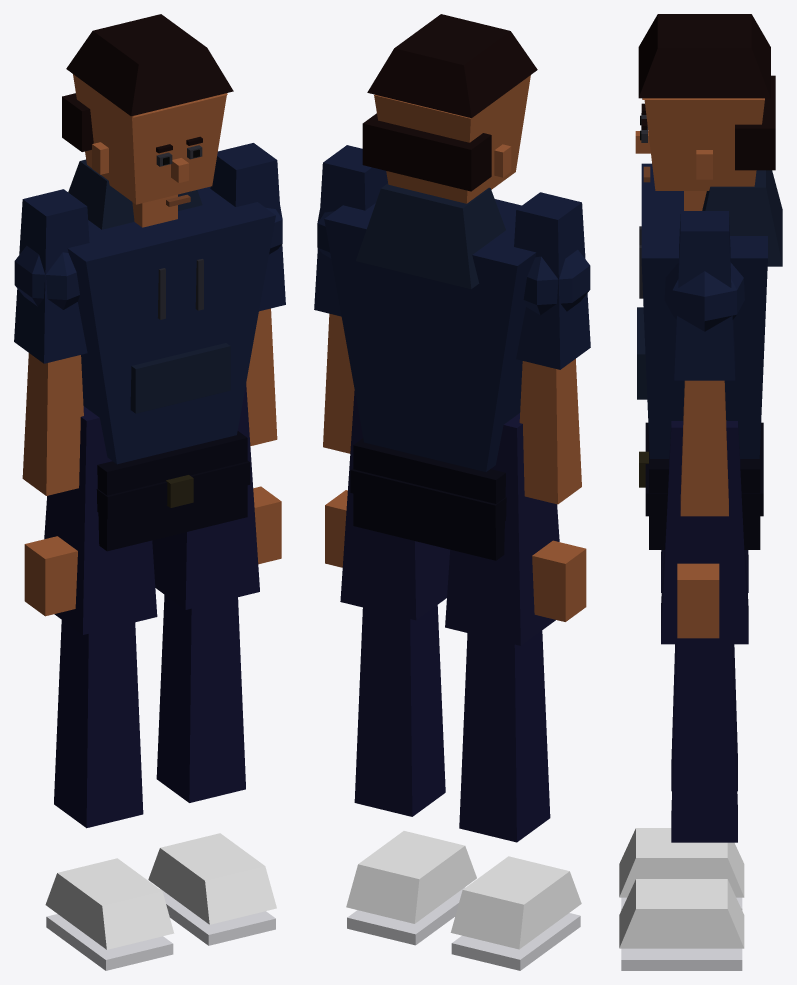
The model's file is player_jason.glb.
The picture shows the model from 3 angles, left to right: view 1: azimuth 30°, elevation 25°; view 2: azimuth 150°, elevation 25°; view 3: azimuth 270°, elevation 25°; orthographic projection.
Parts seen in each view (by area): view 1: torso, head, lowerLegR, lowerLegL, hips, foreArmR, upperLegR, upperArmR, footR, footL, upperLegL, upperArmL (+1 smaller); view 2: torso, head, lowerLegR, lowerLegL, hips, upperLegR, foreArmR, upperArmR, footR, footL, upperLegL, upperArmL (+1 smaller); view 3: head, torso, lowerLegL, footL, upperArmL, upperLegL, foreArmL, footR, hips, lowerLegR.
Part boxes in pixels (x1,y1,x2,y2): torso: [67, 159, 275, 464]; head: [62, 14, 233, 206]; lowerLegR: [54, 620, 143, 828]; lowerLegL: [156, 594, 245, 802]; hips: [96, 431, 250, 551]; foreArmR: [22, 353, 83, 616]; upperLegR: [44, 406, 157, 634]; upperArmR: [14, 189, 89, 363]; footR: [45, 858, 174, 970]; footL: [148, 833, 276, 945]; upperLegL: [152, 383, 259, 609]; upperArmL: [210, 143, 285, 311]; torso: [324, 183, 536, 471]; head: [362, 14, 537, 203]; lowerLegR: [459, 630, 550, 842]; lowerLegL: [354, 605, 445, 816]; hips: [350, 438, 506, 560]; upperLegR: [445, 413, 559, 645]; foreArmR: [519, 359, 586, 621]; upperArmR: [514, 192, 590, 369]; footR: [450, 856, 581, 970]; footL: [346, 831, 476, 945]; upperLegL: [340, 391, 449, 620]; upperArmL: [314, 145, 387, 316]; head: [635, 14, 775, 190]; torso: [637, 163, 782, 458]; lowerLegL: [671, 644, 737, 842]; footL: [619, 879, 744, 970]; upperArmL: [664, 211, 744, 380]; upperLegL: [661, 421, 748, 644]; foreArmL: [677, 380, 728, 638]; footR: [619, 828, 744, 909]; hips: [639, 422, 763, 549]; lowerLegR: [671, 644, 737, 791].
Size of the model in its own units: 0.5541 by 1.82 by 0.3.
